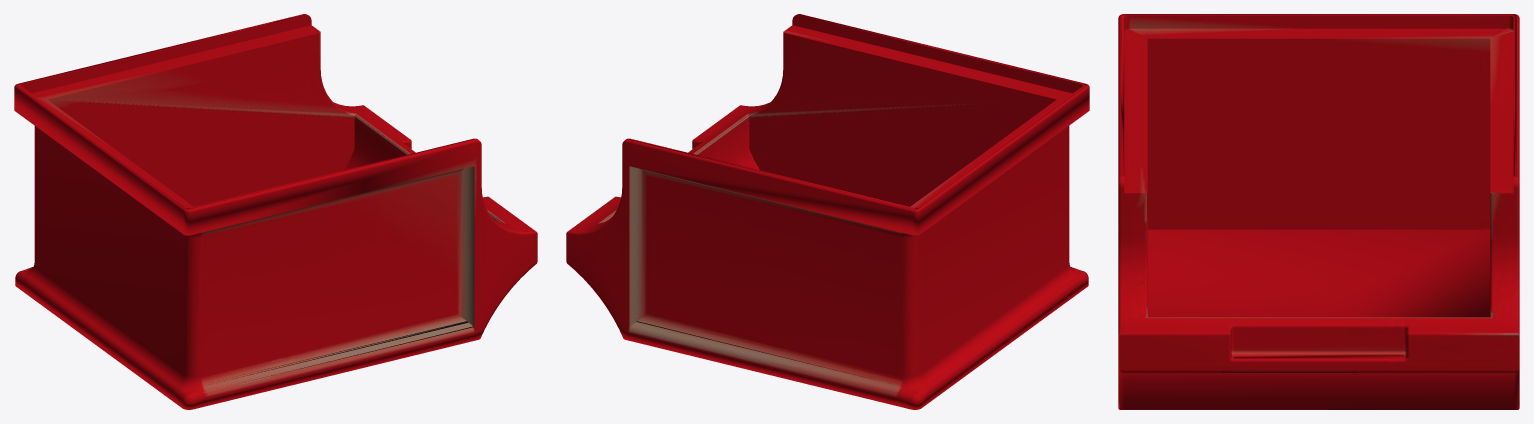
The model's file is Container_box_red.obj.
The picture shows the model from 3 angles, left to right: view 1: azimuth 30°, elevation 25°; view 2: azimuth 150°, elevation 25°; view 3: azimuth 270°, elevation 25°; orthographic projection. The views are drawn at different scales.
Visible parts, largest first — view 1: Container_box_blue_Material; view 2: Container_box_blue_Material; view 3: Container_box_blue_Material.
Part boxes in pixels (x1,y1,x2,y2): Container_box_blue_Material: [14, 14, 537, 409]; Container_box_blue_Material: [566, 14, 1089, 409]; Container_box_blue_Material: [1118, 14, 1519, 409].
Size of the model in its own units: 1.6 by 0.87 by 1.37.
Materials: 1 (1 with a texture image).
